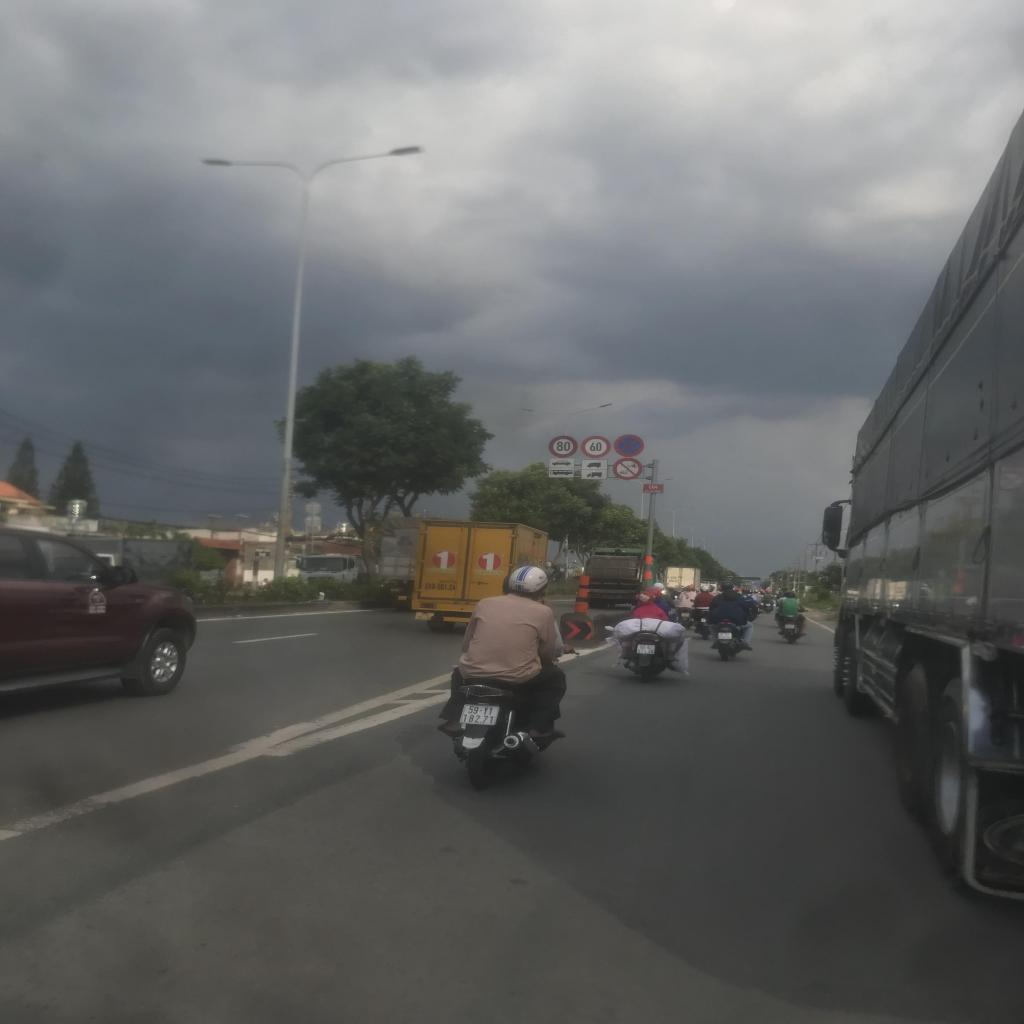cam_dung_xe_va_do_xe: (612, 434, 646, 458)
cam_xe_2_banh_va_xe_3_banh_co_dong_co: (612, 458, 642, 480)
khac: (550, 458, 576, 468), (582, 469, 608, 479), (582, 460, 608, 470), (548, 468, 574, 477)
toc_do_toi_da_60: (580, 436, 611, 460)
toc_do_toi_da_80: (548, 434, 579, 458)
